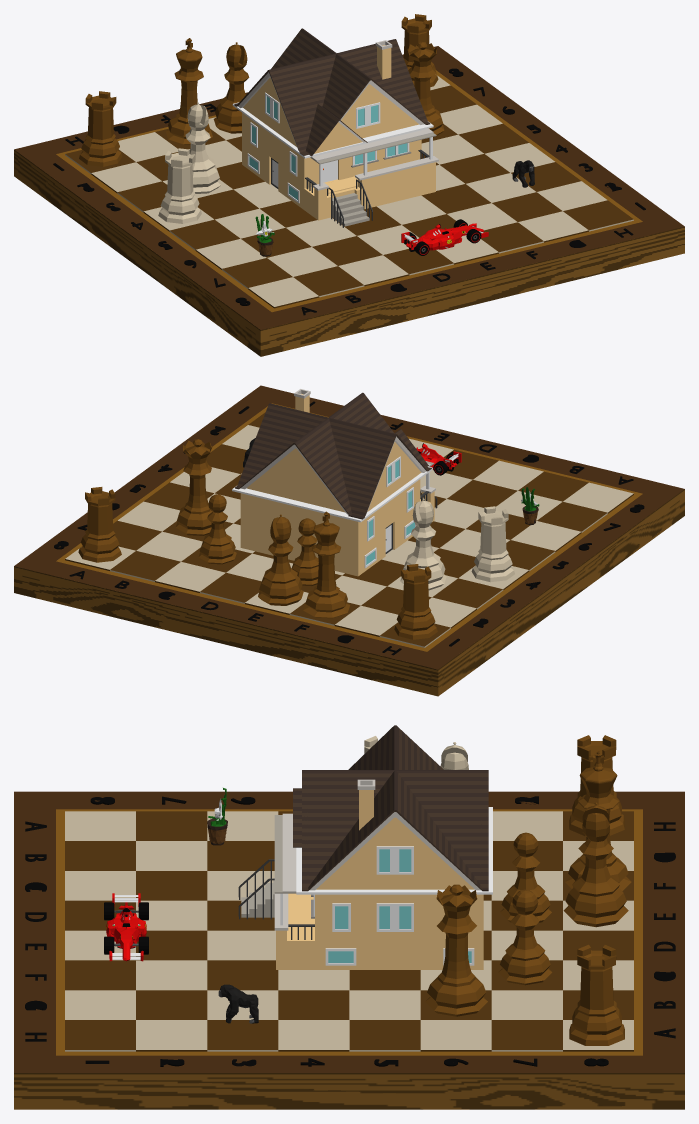
3 renders of one model, top to bottom at view 1: azimuth 30°, elevation 25°; view 2: azimuth 150°, elevation 25°; view 3: azimuth 270°, elevation 25°, orthographic. The views are drawn at different scales.
Visible parts, largest first — view 1: Cube.002, Cube.235, VEHICLES_FORMULA_1, OBJRANDOM_MONJA BLANCA; view 2: Cube.002, Cube.235, VEHICLES_FORMULA_1, OBJRANDOM_MONJA BLANCA; view 3: Cube.002, Cube.235, VEHICLES_FORMULA_1, ANIMAL_GORILA, OBJRANDOM_MONJA BLANCA.
Part boxes in pixels (<box>): Cube.002: <box>14,14,684,356</box>; Cube.235: <box>232,28,438,227</box>; VEHICLES_FORMULA_1: <box>401,219,488,255</box>; OBJRANDOM_MONJA BLANCA: <box>255,214,274,256</box>; Cube.002: <box>14,385,684,696</box>; Cube.235: <box>232,389,437,576</box>; VEHICLES_FORMULA_1: <box>416,443,461,475</box>; OBJRANDOM_MONJA BLANCA: <box>521,487,539,525</box>; Cube.002: <box>14,735,684,1109</box>; Cube.235: <box>238,725,492,969</box>; VEHICLES_FORMULA_1: <box>104,893,148,961</box>; ANIMAL_GORILA: <box>218,984,258,1023</box>; OBJRANDOM_MONJA BLANCA: <box>207,788,227,845</box>.
Size of the model in its own units: 3981 by 1585 by 4012.
Materials: 37 (2 with a texture image).
